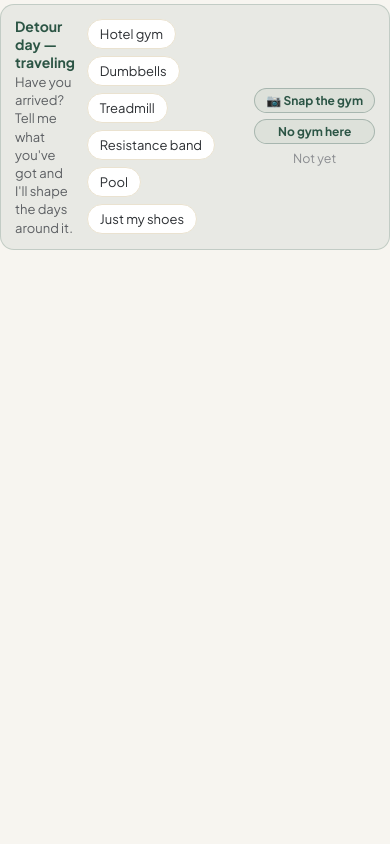
Scenario: DetourDayCards — pressed at the wire › a FAILED confirm says so — the Phase 0 fix this component once shipped without
Click the button "No gym here" at (315, 131), box [254,119,375,144]
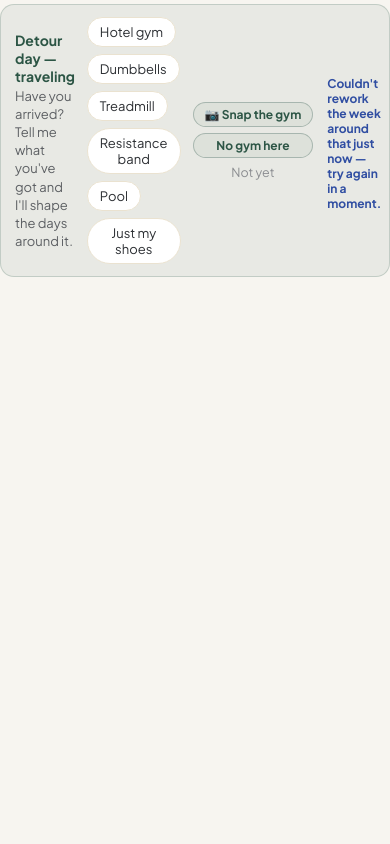
expect the text "Couldn't rework the week around that just now" is shown: met, box [327,76,381,211]
